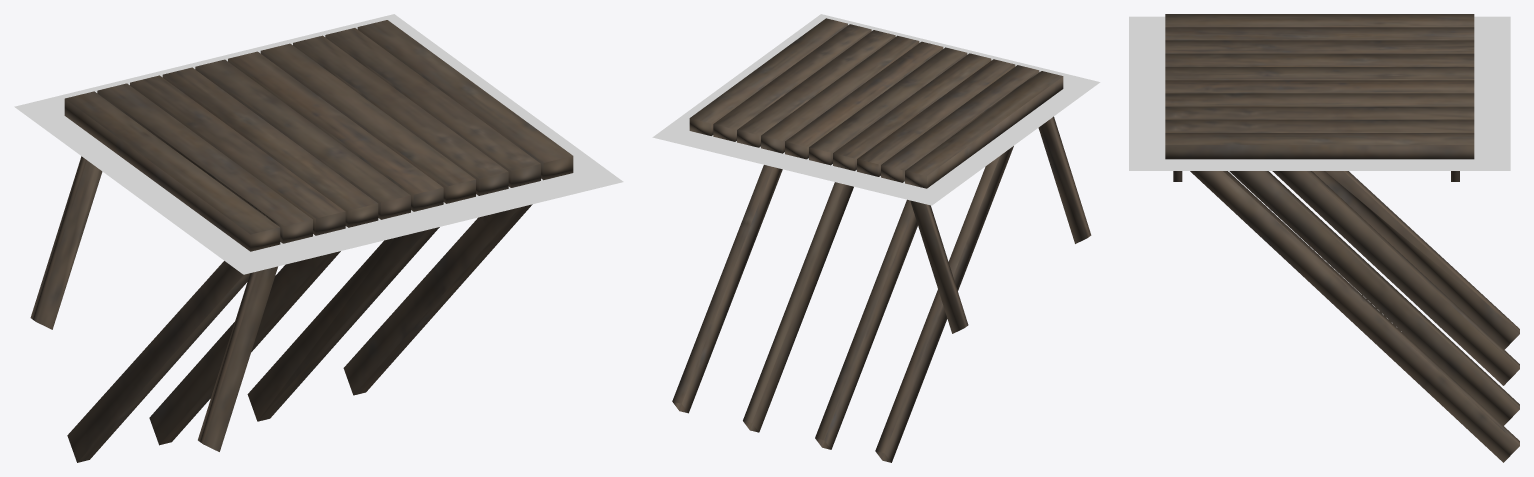
Rendered from balcony.glb.
3 views of the same model, side by side, from view 1: azimuth 30°, elevation 25°; view 2: azimuth 150°, elevation 25°; view 3: azimuth 270°, elevation 25° (orthographic). The views are drawn at different scales.
Visible parts, largest first — view 1: balcony; view 2: balcony; view 3: balcony.
Boxes of the visible parts, <box> form: balcony: <box>14,14,623,462</box>; balcony: <box>652,14,1100,462</box>; balcony: <box>1129,14,1519,462</box>.
Size of the model in its own units: 4.68 by 4.39 by 4.83.
Materials: 2 (1 with a texture image).
